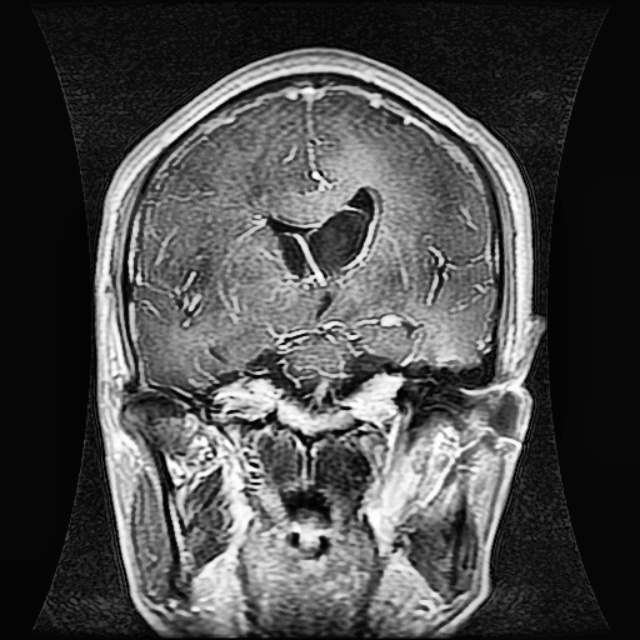Meningioma: (264, 185, 382, 280)
